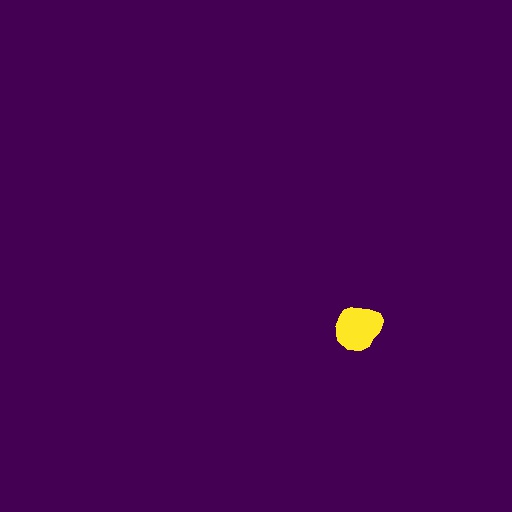Gliomia_tumour: (335, 307, 384, 351)
